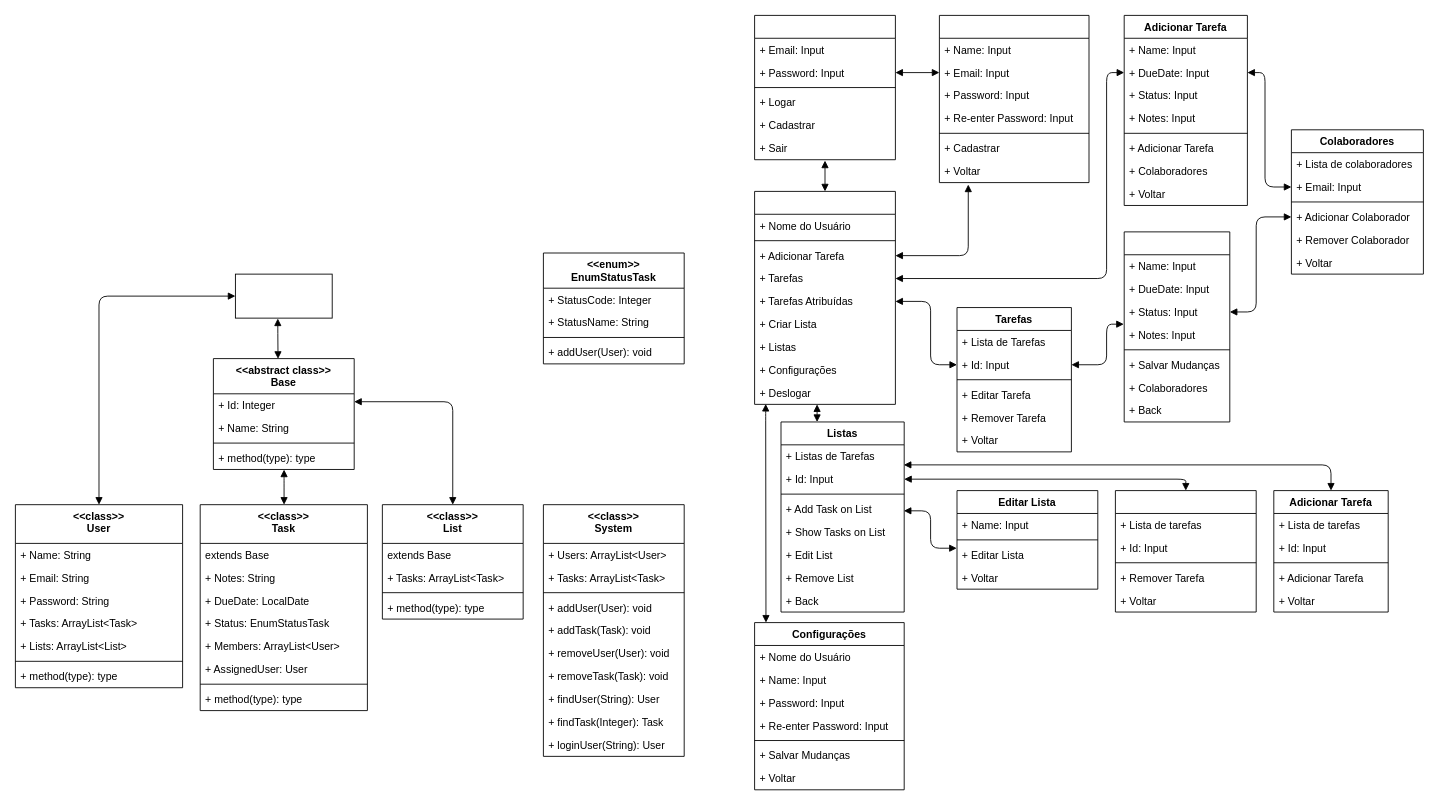
Image size: 1439x808. Some labels were removed from this diagram. The box of each missing label's shape, as (x1, y1, x2, y2) in pixels:
Cadastro: (939, 15, 1089, 183)
Editar Tarefa: (1123, 231, 1230, 422)
Login: (754, 15, 895, 160)
Menu Principal: (754, 191, 895, 404)
Tarefas na Lista: (1115, 490, 1256, 612)
«interface» Editable: (235, 273, 332, 318)
